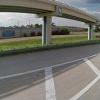Bridge: (8, 1, 93, 38)
